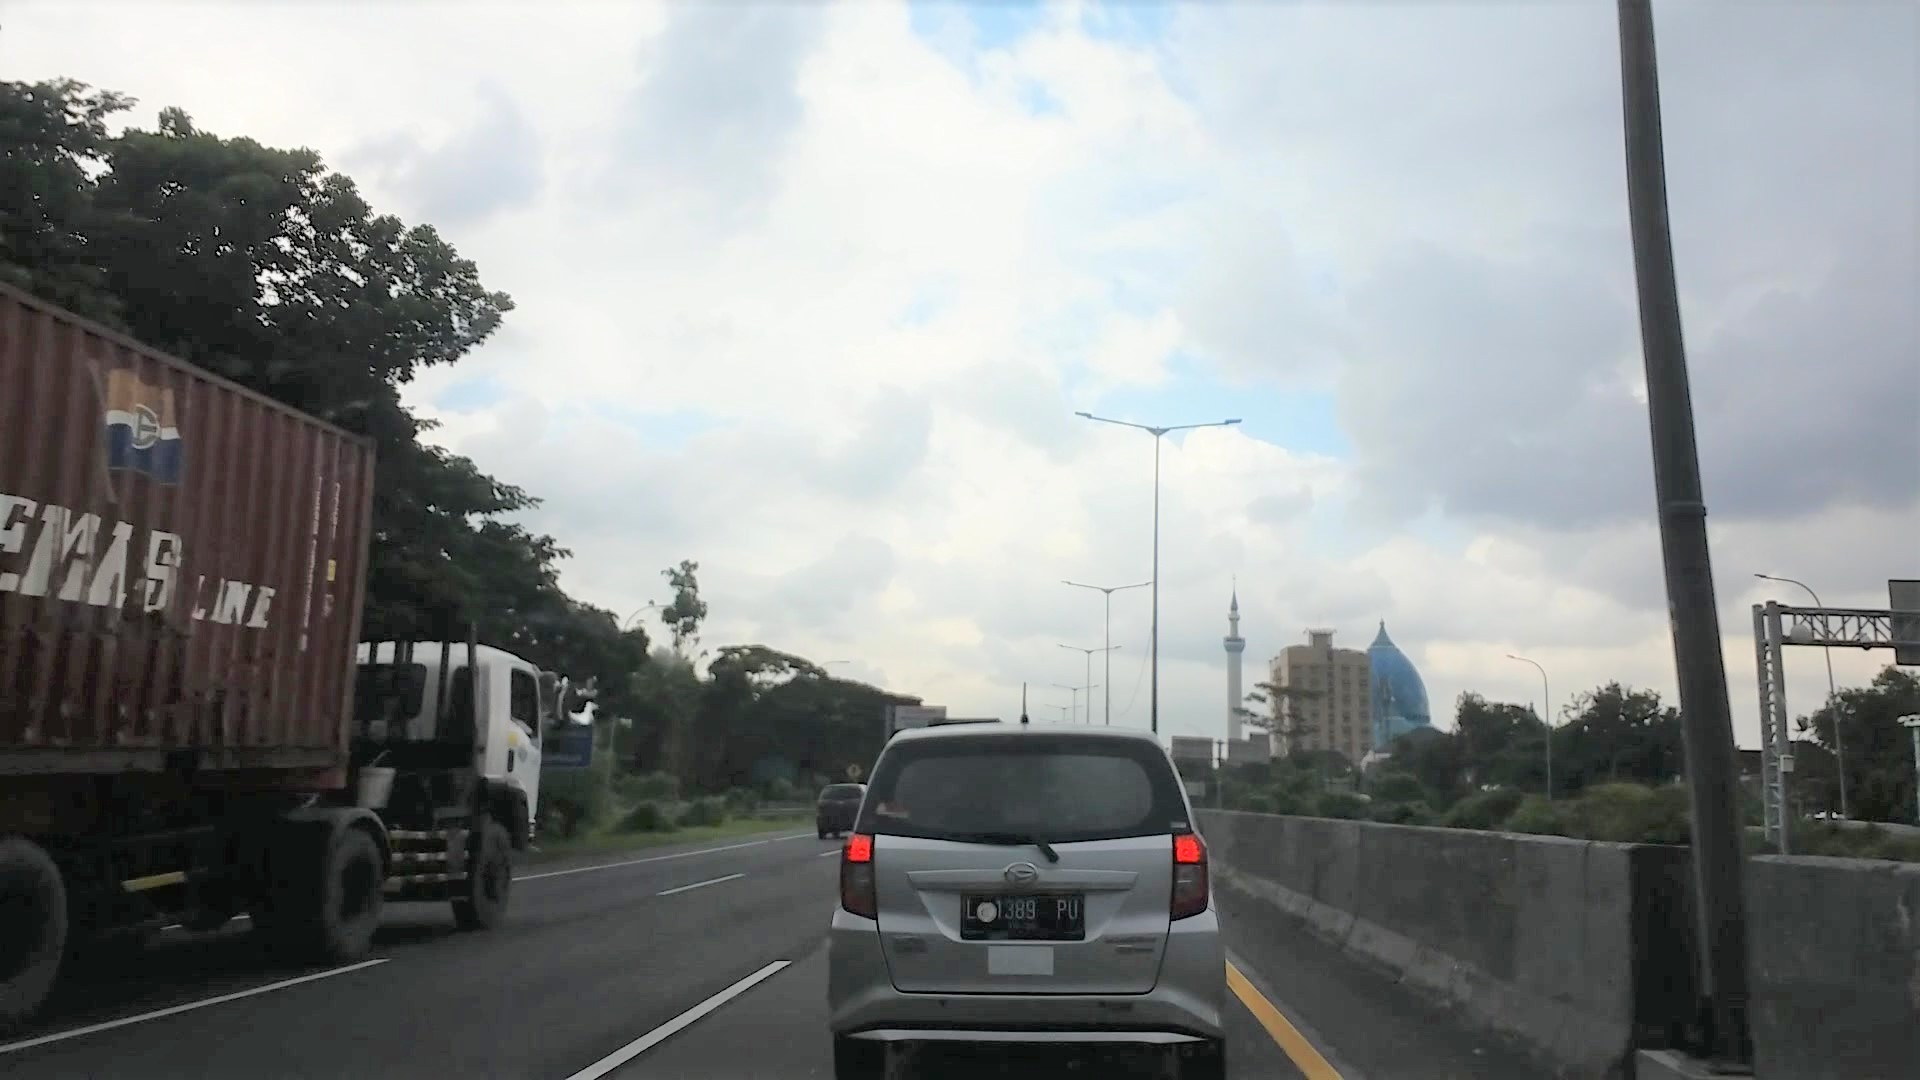plate_positive: (961, 890, 1085, 942)
